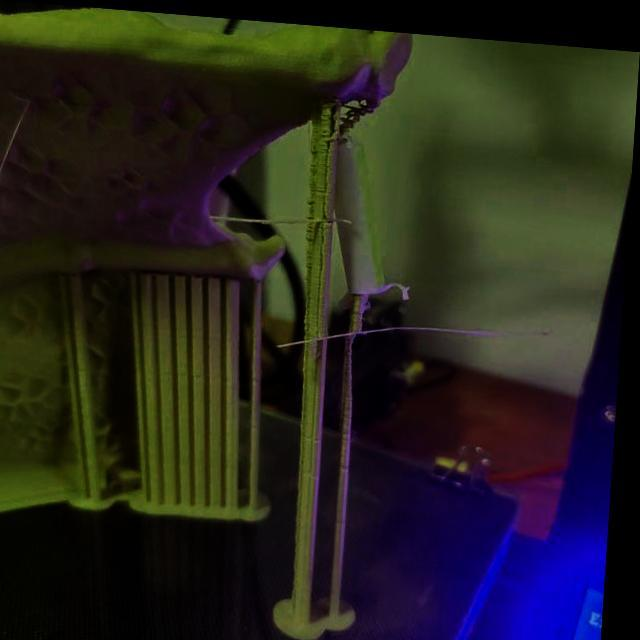spaghetti: (277, 306, 486, 359), (209, 200, 358, 230), (332, 83, 382, 134)
